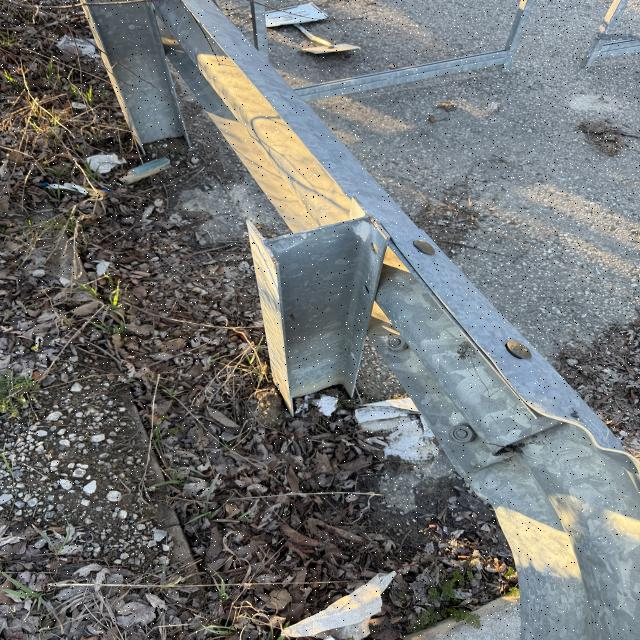Guard rail: (249, 232, 634, 626)
